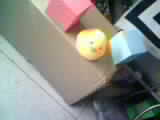duck: (68, 23, 115, 71)
